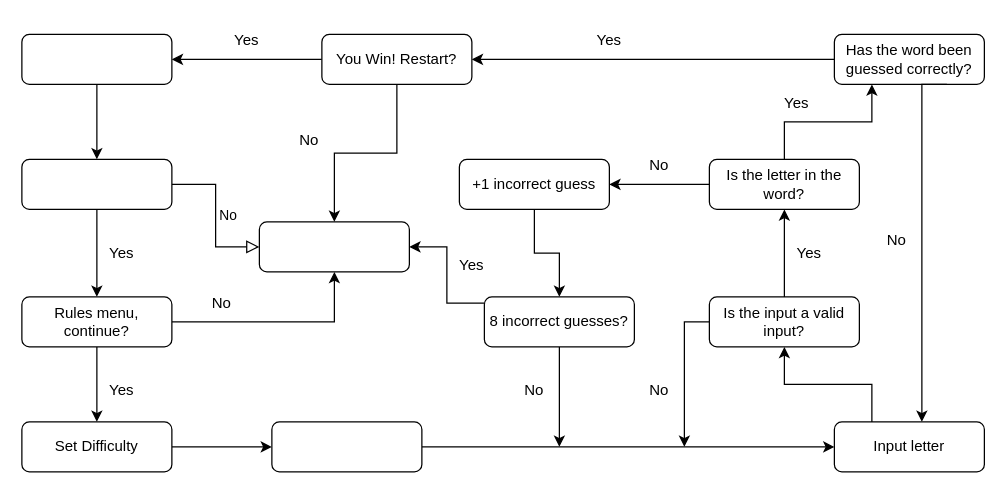
This 1006x494 diagram has some shape labels left out. Each missing label, with the centre of its shape:
"Do you want to start the game?" belongs at (x=96, y=183).
"Exit game" belongs at (x=333, y=246).
"Generate random word" belongs at (x=346, y=446).
"Start game" belongs at (x=96, y=58).
